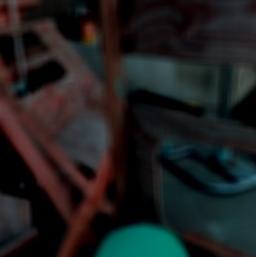algae: (91, 221, 197, 257)
